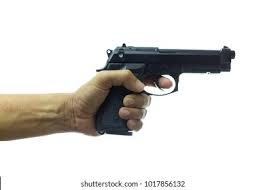gun: (96, 43, 236, 137)
